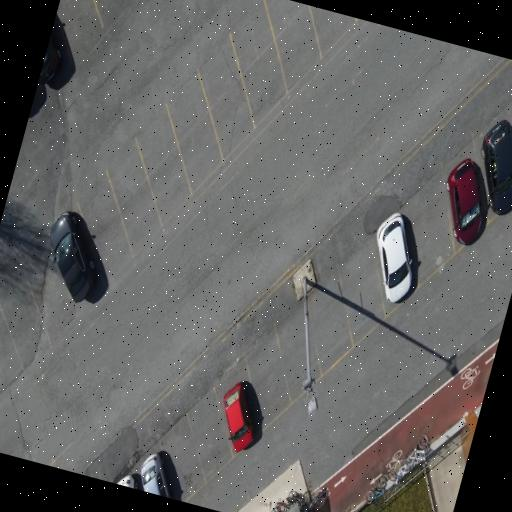harvester: (406, 435, 431, 465), (388, 458, 413, 484), (366, 476, 387, 503), (306, 488, 328, 511), (462, 365, 480, 388), (288, 490, 311, 506), (387, 449, 402, 469), (305, 509, 314, 511)
person: (51, 213, 95, 302), (447, 158, 486, 244), (377, 213, 412, 302), (481, 120, 511, 214), (223, 382, 253, 451), (141, 453, 172, 498), (38, 36, 61, 83), (118, 475, 138, 489)
